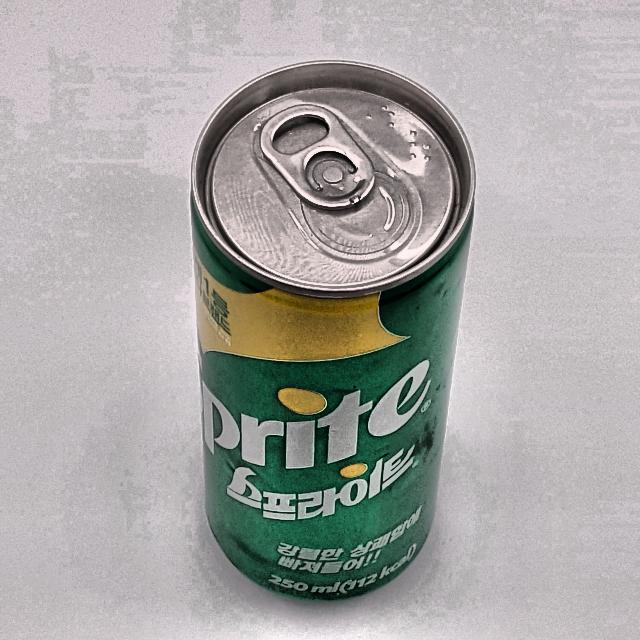sprite: (191, 61, 475, 600)
